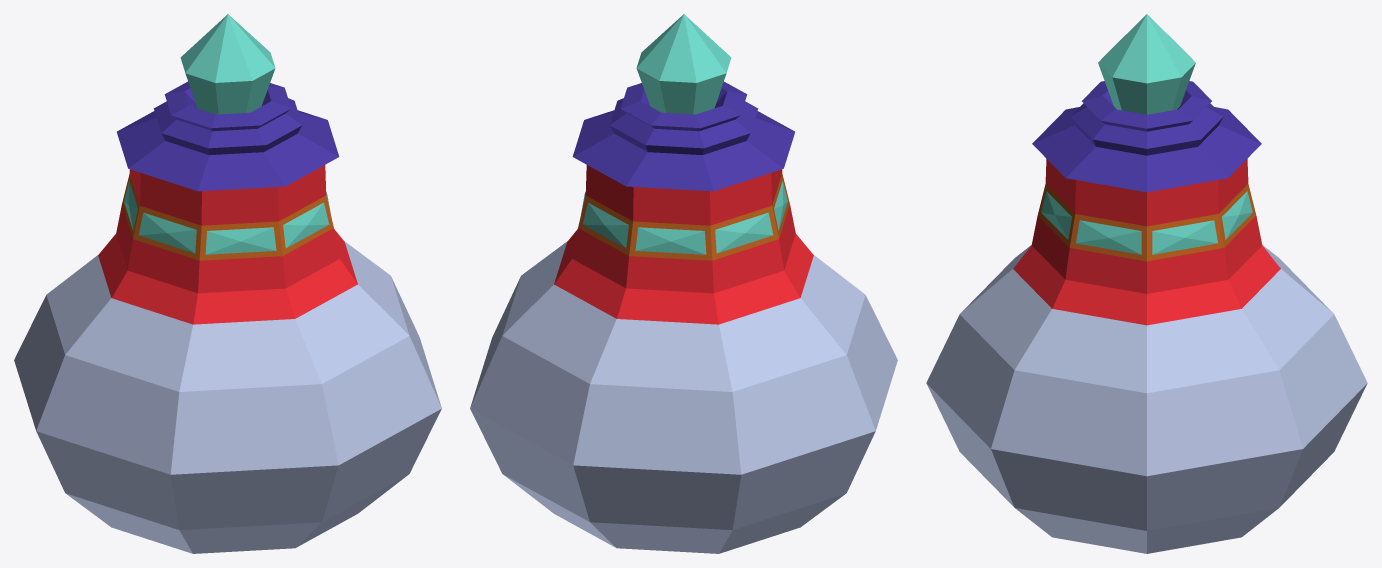
3 renders of one model, left to right at view 1: azimuth 30°, elevation 25°; view 2: azimuth 150°, elevation 25°; view 3: azimuth 270°, elevation 25°, orthographic.
Visible parts, largest first — view 1: Vidrio, Cube; view 2: Vidrio, Cube; view 3: Vidrio, Cube.
Part boxes in pixels (x1,y1,x2,y2): Vidrio: (14, 241, 441, 553); Cube: (98, 14, 357, 324); Vidrio: (470, 241, 897, 553); Cube: (554, 14, 813, 324); Vidrio: (926, 245, 1367, 553); Cube: (1013, 14, 1280, 325).
Bounding box in the file's own units: 397 × 480 × 397.
1 material, 1 textured.
